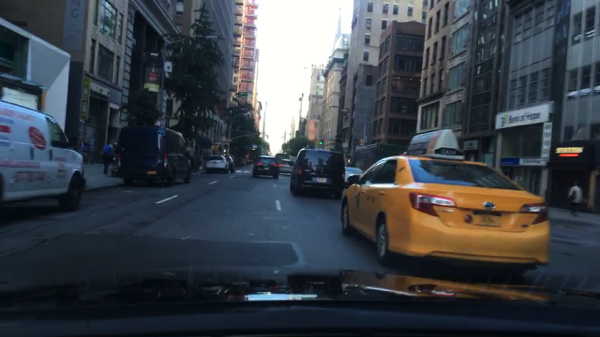car: (339, 128, 548, 279), (0, 97, 87, 212), (118, 125, 191, 187), (289, 147, 345, 198), (251, 156, 279, 179), (204, 155, 229, 172), (342, 166, 364, 183), (277, 159, 295, 174), (223, 155, 236, 174), (274, 152, 291, 161), (245, 158, 253, 166)
person: (566, 181, 582, 216), (101, 140, 115, 175)
traffic light: (345, 153, 350, 162), (317, 140, 322, 147), (359, 140, 364, 146), (222, 149, 228, 154), (211, 147, 217, 152), (260, 146, 264, 151)
traffic sign: (149, 51, 159, 59), (150, 72, 156, 81), (225, 138, 232, 142), (214, 142, 221, 145)
